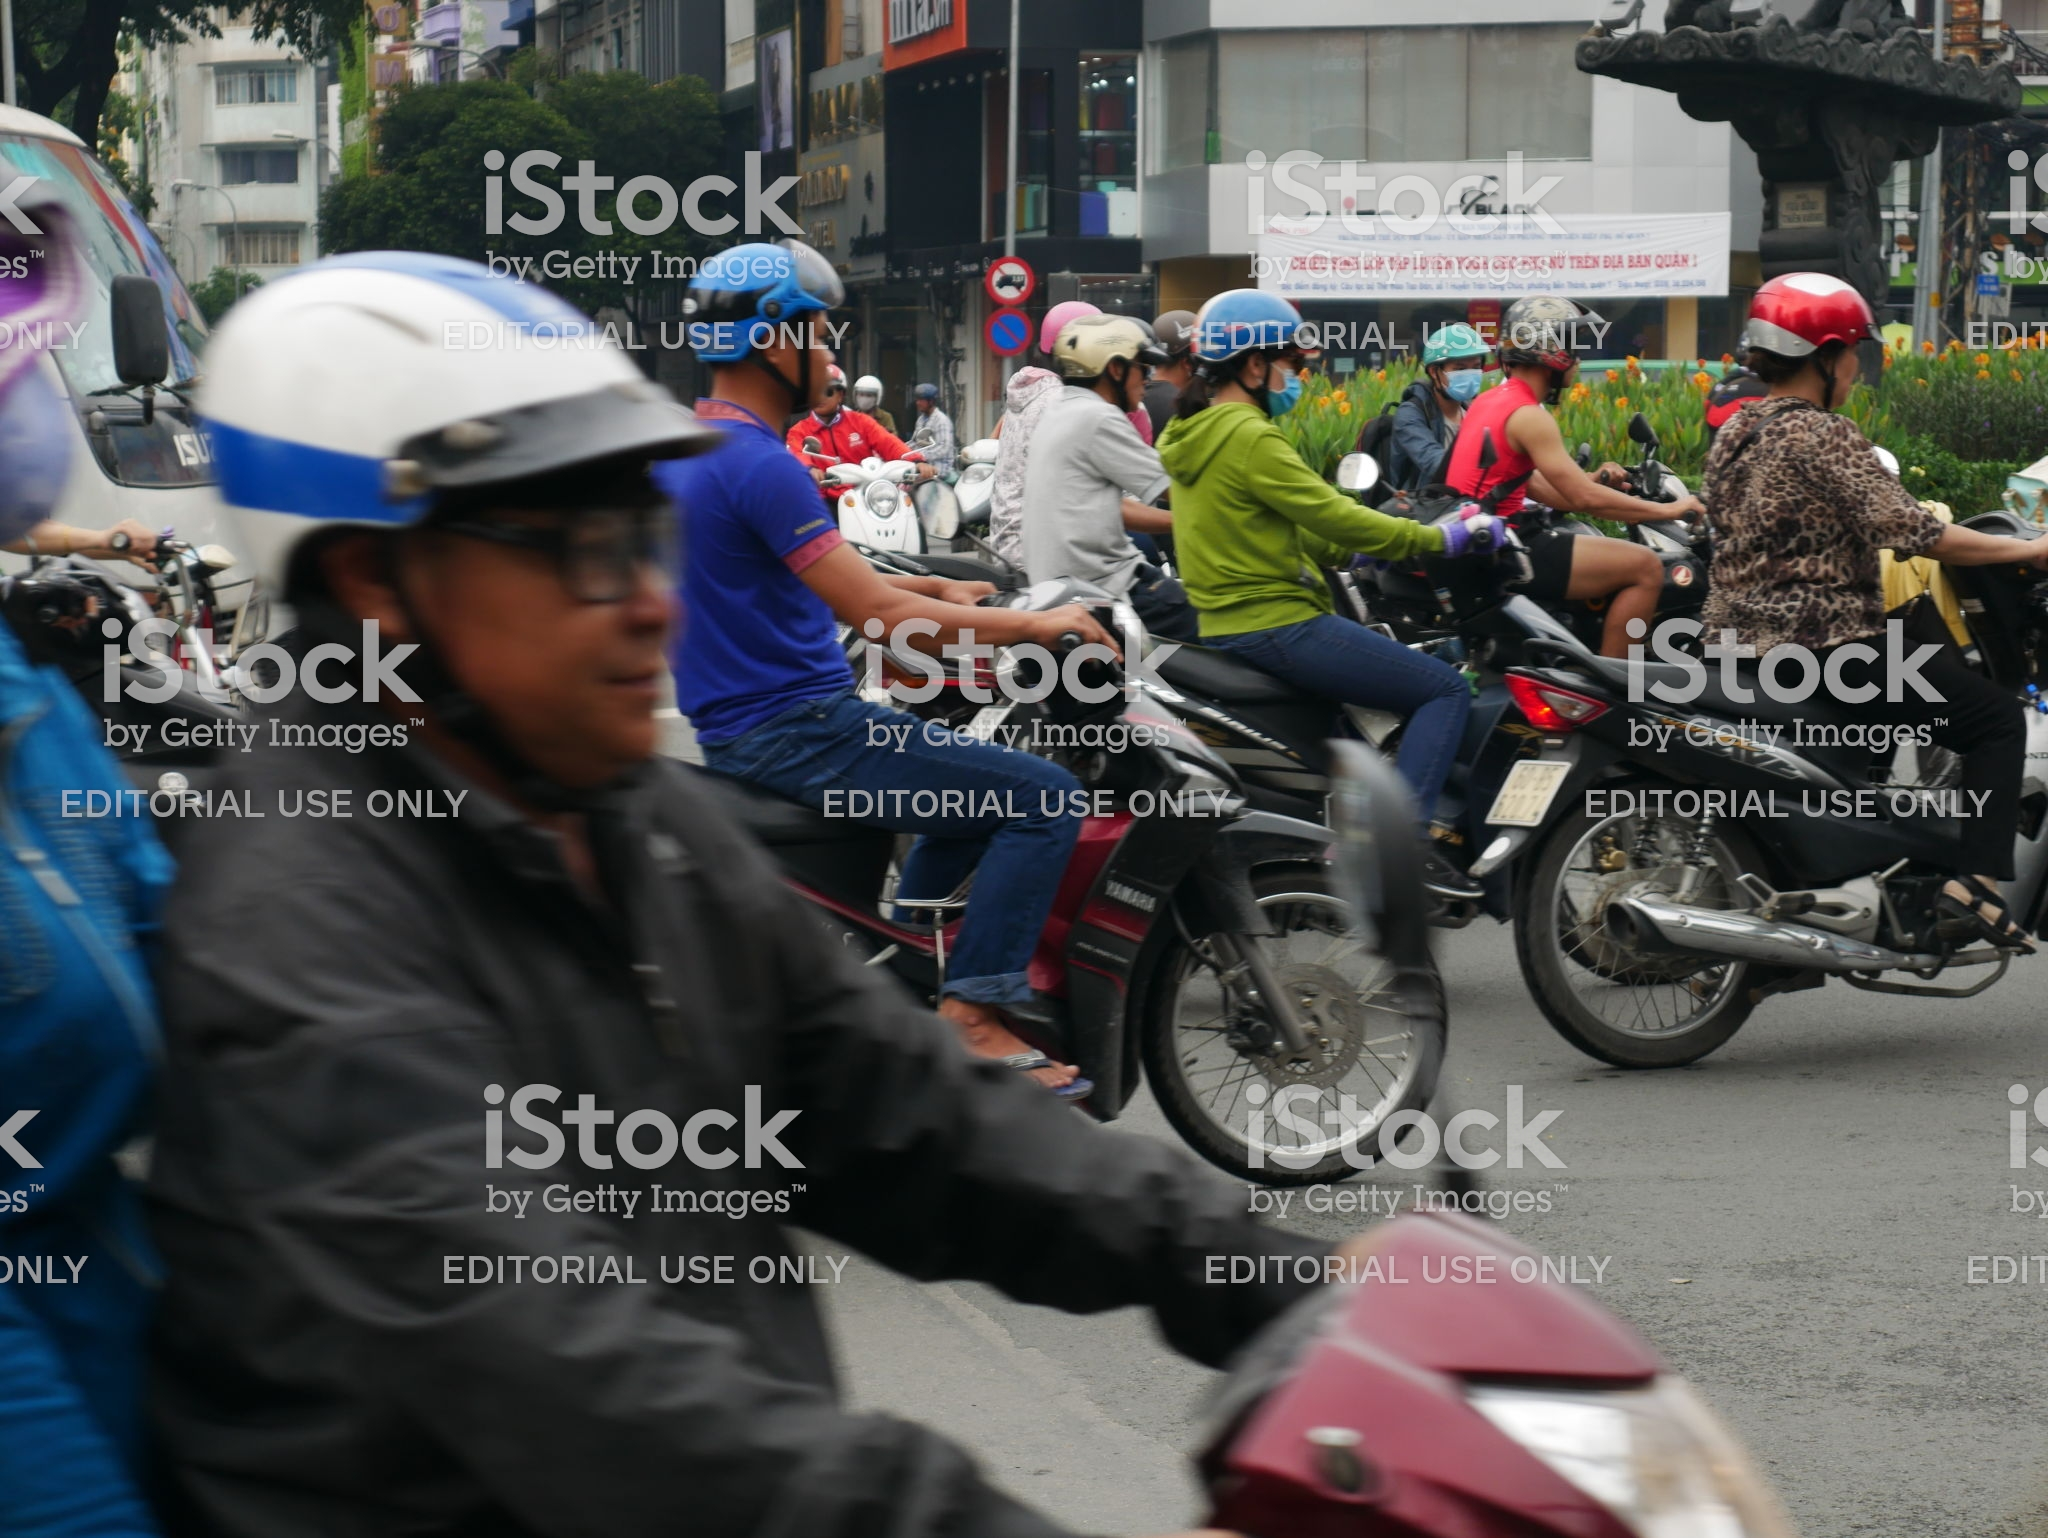helmet: (158, 237, 641, 522), (664, 231, 820, 365), (1740, 275, 1874, 354), (1195, 288, 1300, 368)
